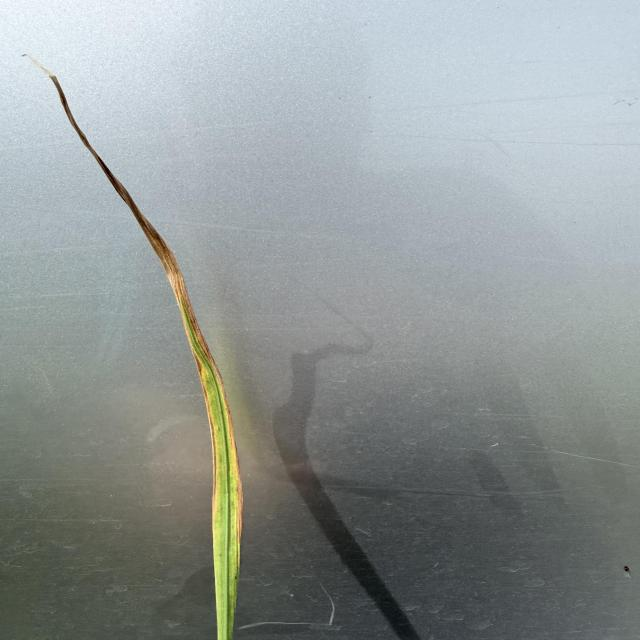Chay bia la: (20, 55, 244, 574)
